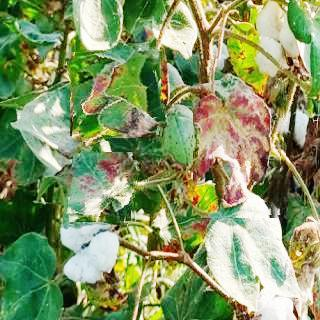blight: (193, 58, 287, 218), (70, 46, 165, 142), (68, 151, 139, 224)
